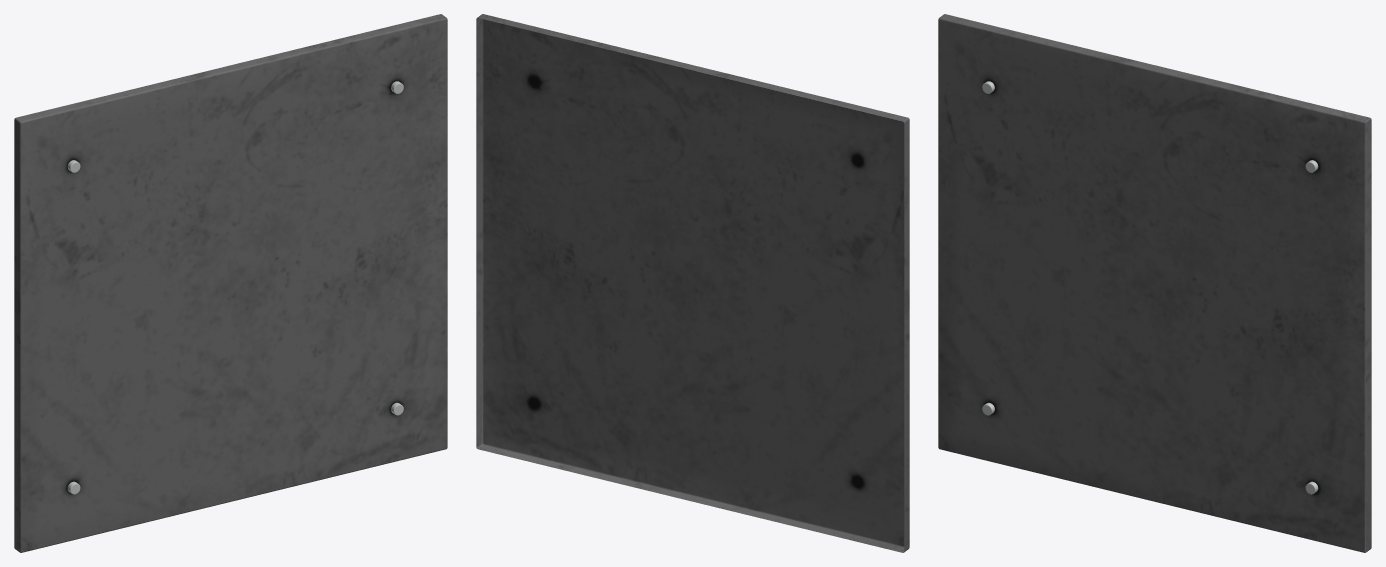
3 views of the same model, side by side, from view 1: azimuth 30°, elevation 25°; view 2: azimuth 150°, elevation 25°; view 3: azimuth 330°, elevation 25° (orthographic).
Parts seen in each view (by area): view 1: mirror; view 2: mirror; view 3: mirror.
Boxes of the visible parts, x1,y1,x2,y2 form: mirror: (14, 14, 447, 552); mirror: (476, 14, 909, 552); mirror: (938, 14, 1371, 552).
Bounding box in the file's own units: 0.83 × 0.8 × 0.03.
1 material, 1 textured.
